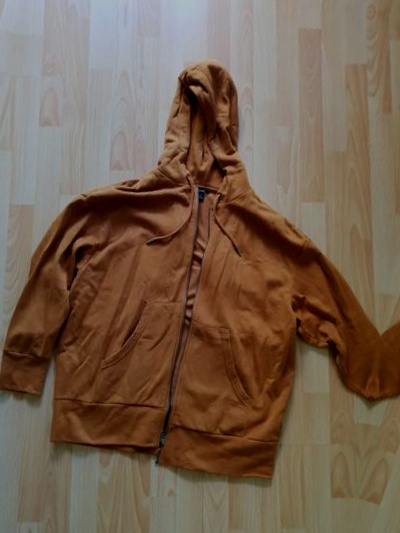Hoodie: (0, 40, 397, 503), (376, 99, 400, 533)
